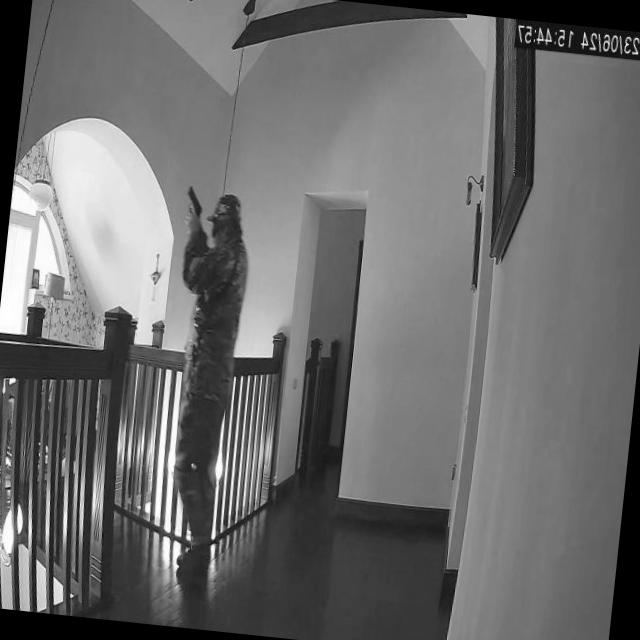gun: (183, 185, 204, 227)
person with a gun: (142, 188, 257, 588)
